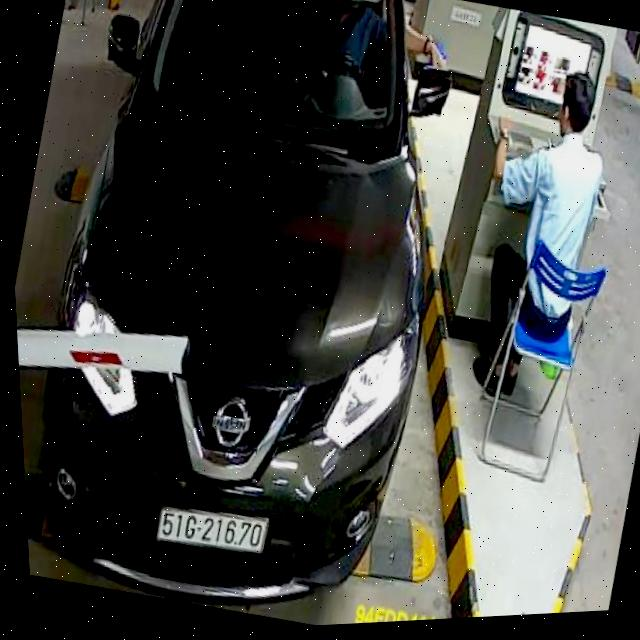car: (0, 0, 516, 638)
plate: (150, 492, 274, 568)
